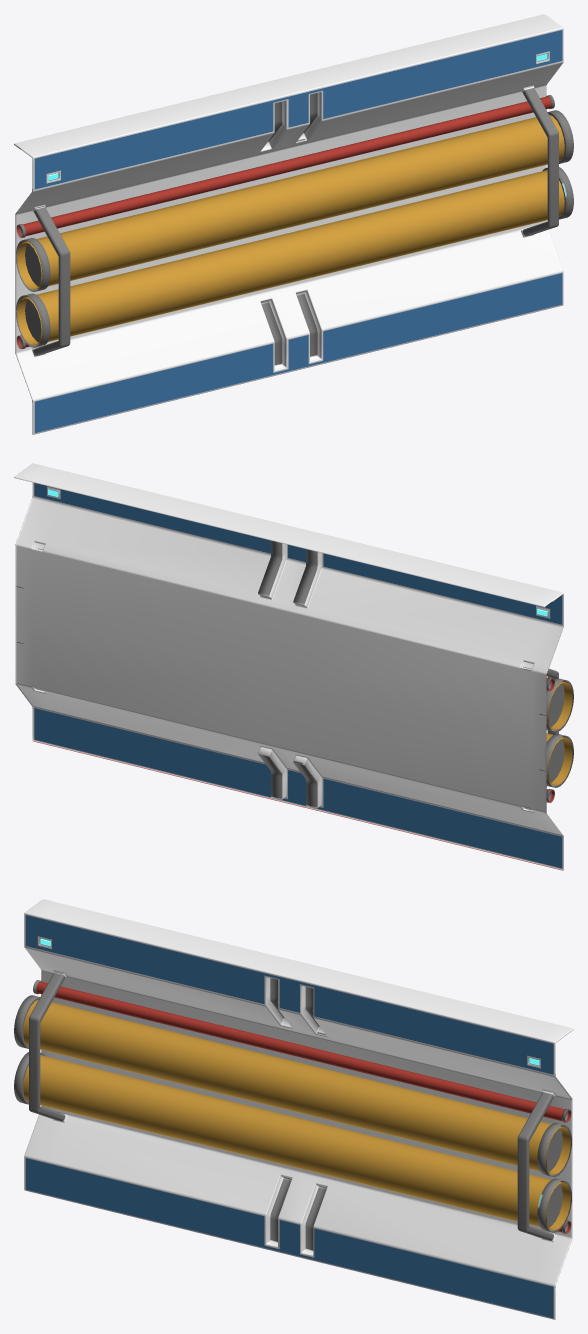
Rendered from Corridor_Wall_Pipes_V2.fbx.
3 views of the same model, one above another, from view 1: azimuth 30°, elevation 25°; view 2: azimuth 150°, elevation 25°; view 3: azimuth 330°, elevation 25° (orthographic).
Visible parts, largest first — view 1: Wall_Pipes; view 2: Wall_Pipes; view 3: Wall_Pipes.
Boxes of the visible parts, x1=… form: Wall_Pipes: x1=14, y1=14, x2=573, y2=434; Wall_Pipes: x1=14, y1=463, x2=573, y2=870; Wall_Pipes: x1=14, y1=899, x2=573, y2=1319.
Bounding box in the file's own units: 200 × 100 × 20.15.
